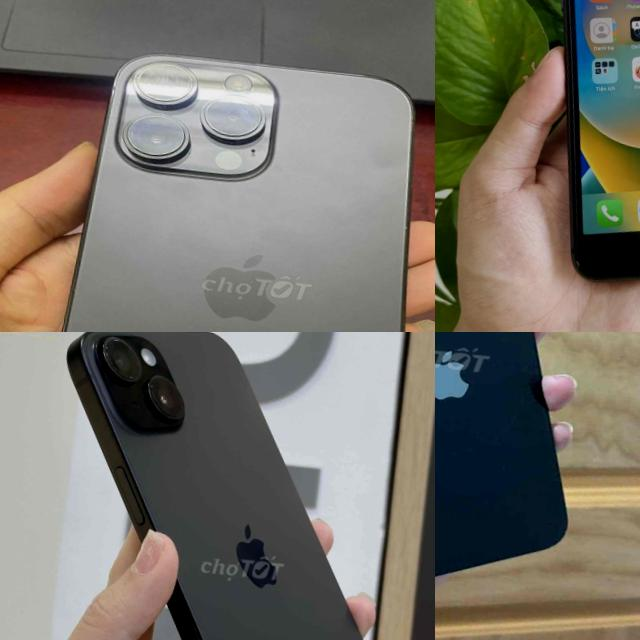scratch: (566, 248, 584, 266)
